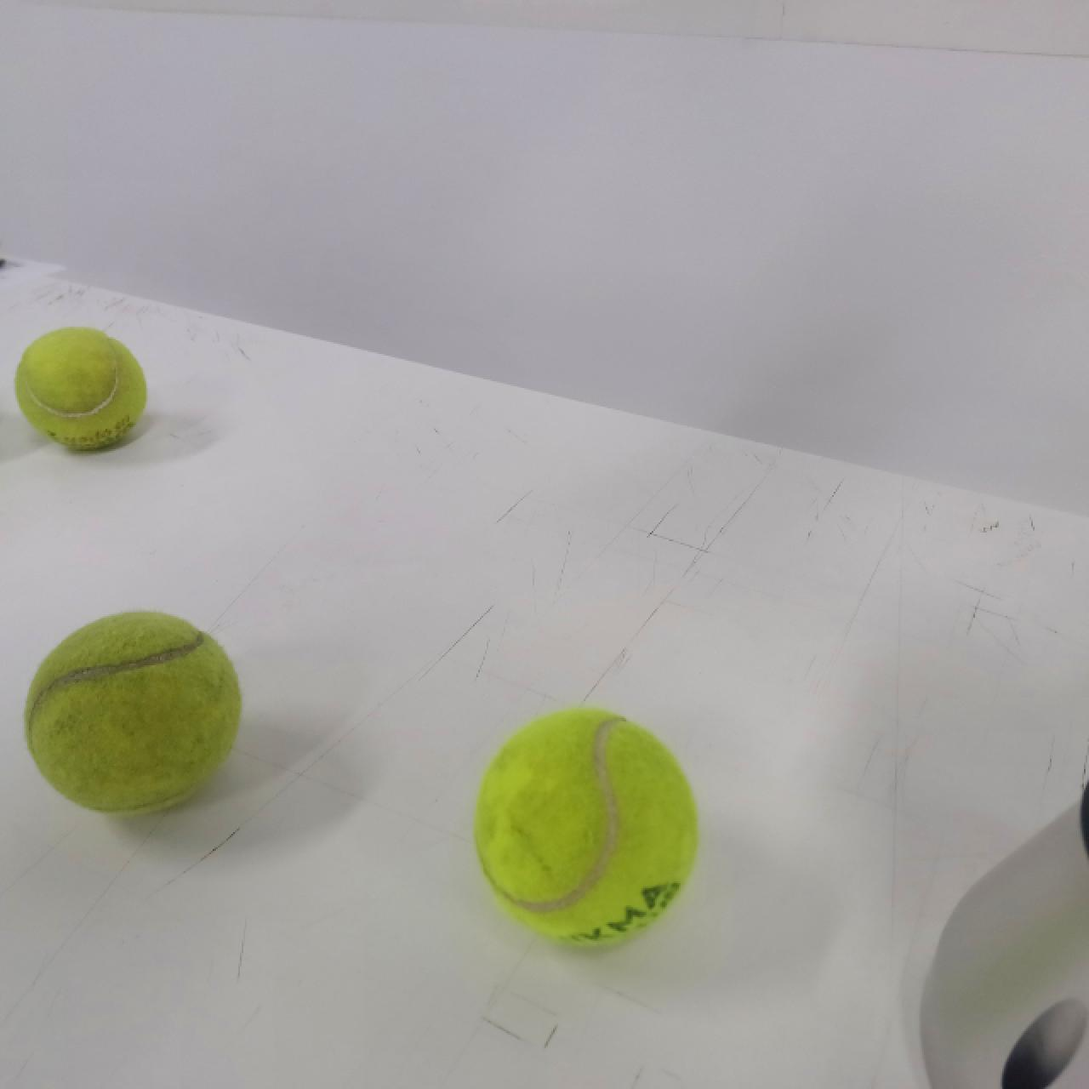tennis-ball: (469, 702, 701, 950), (23, 608, 243, 818), (16, 325, 149, 455)
